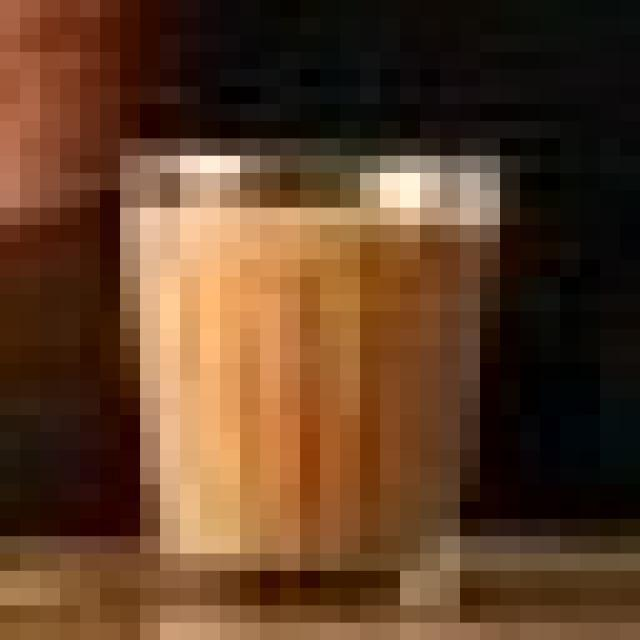taza: (115, 112, 499, 574)
